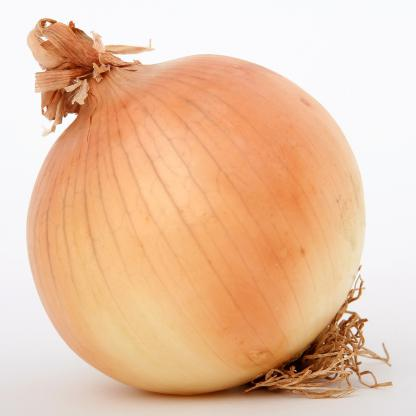onion: (19, 18, 371, 408)
